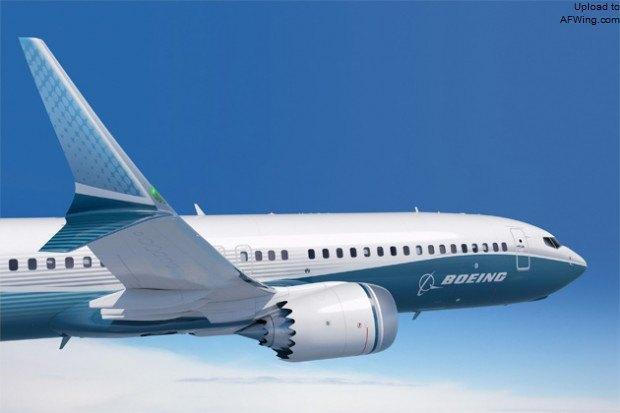airplane: (3, 41, 586, 362)
